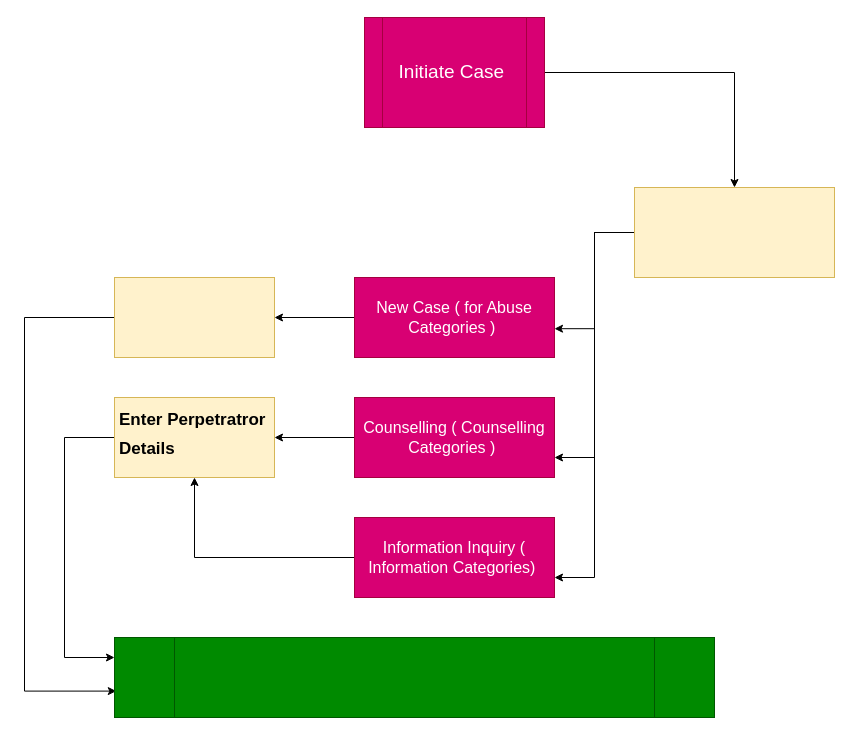
Image size: 852x735. Some labels were removed from this diagram. Each missing label, with the centre of its shape:
Enter Client Details: [194,317]
Enter Reporter Details: [734,232]
Save Case Information: [414,677]
